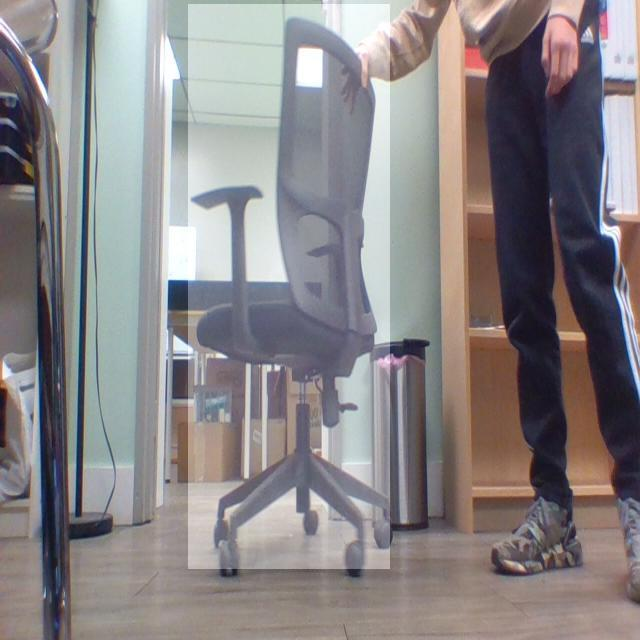chair: (188, 4, 392, 570)
